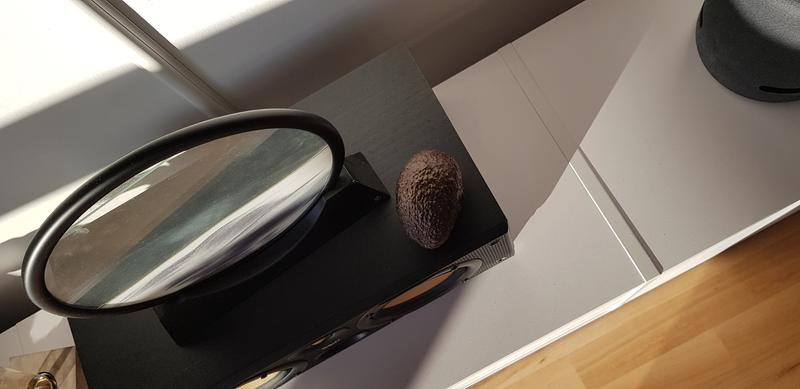Avocado: (386, 149, 479, 255)
